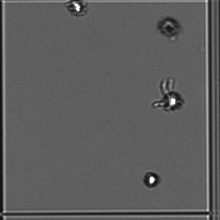Dead Cell: (157, 15, 181, 38)
Living Cell: (159, 89, 186, 113), (141, 170, 161, 188), (64, 1, 87, 15)
